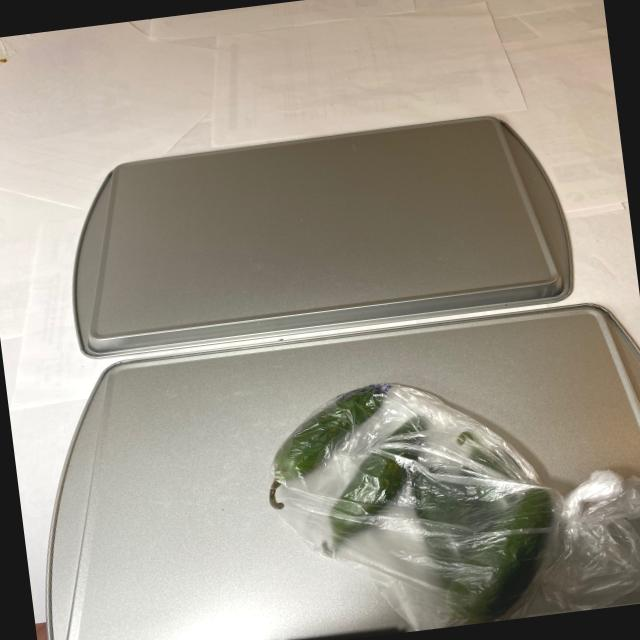chilli: (256, 353, 640, 640)
